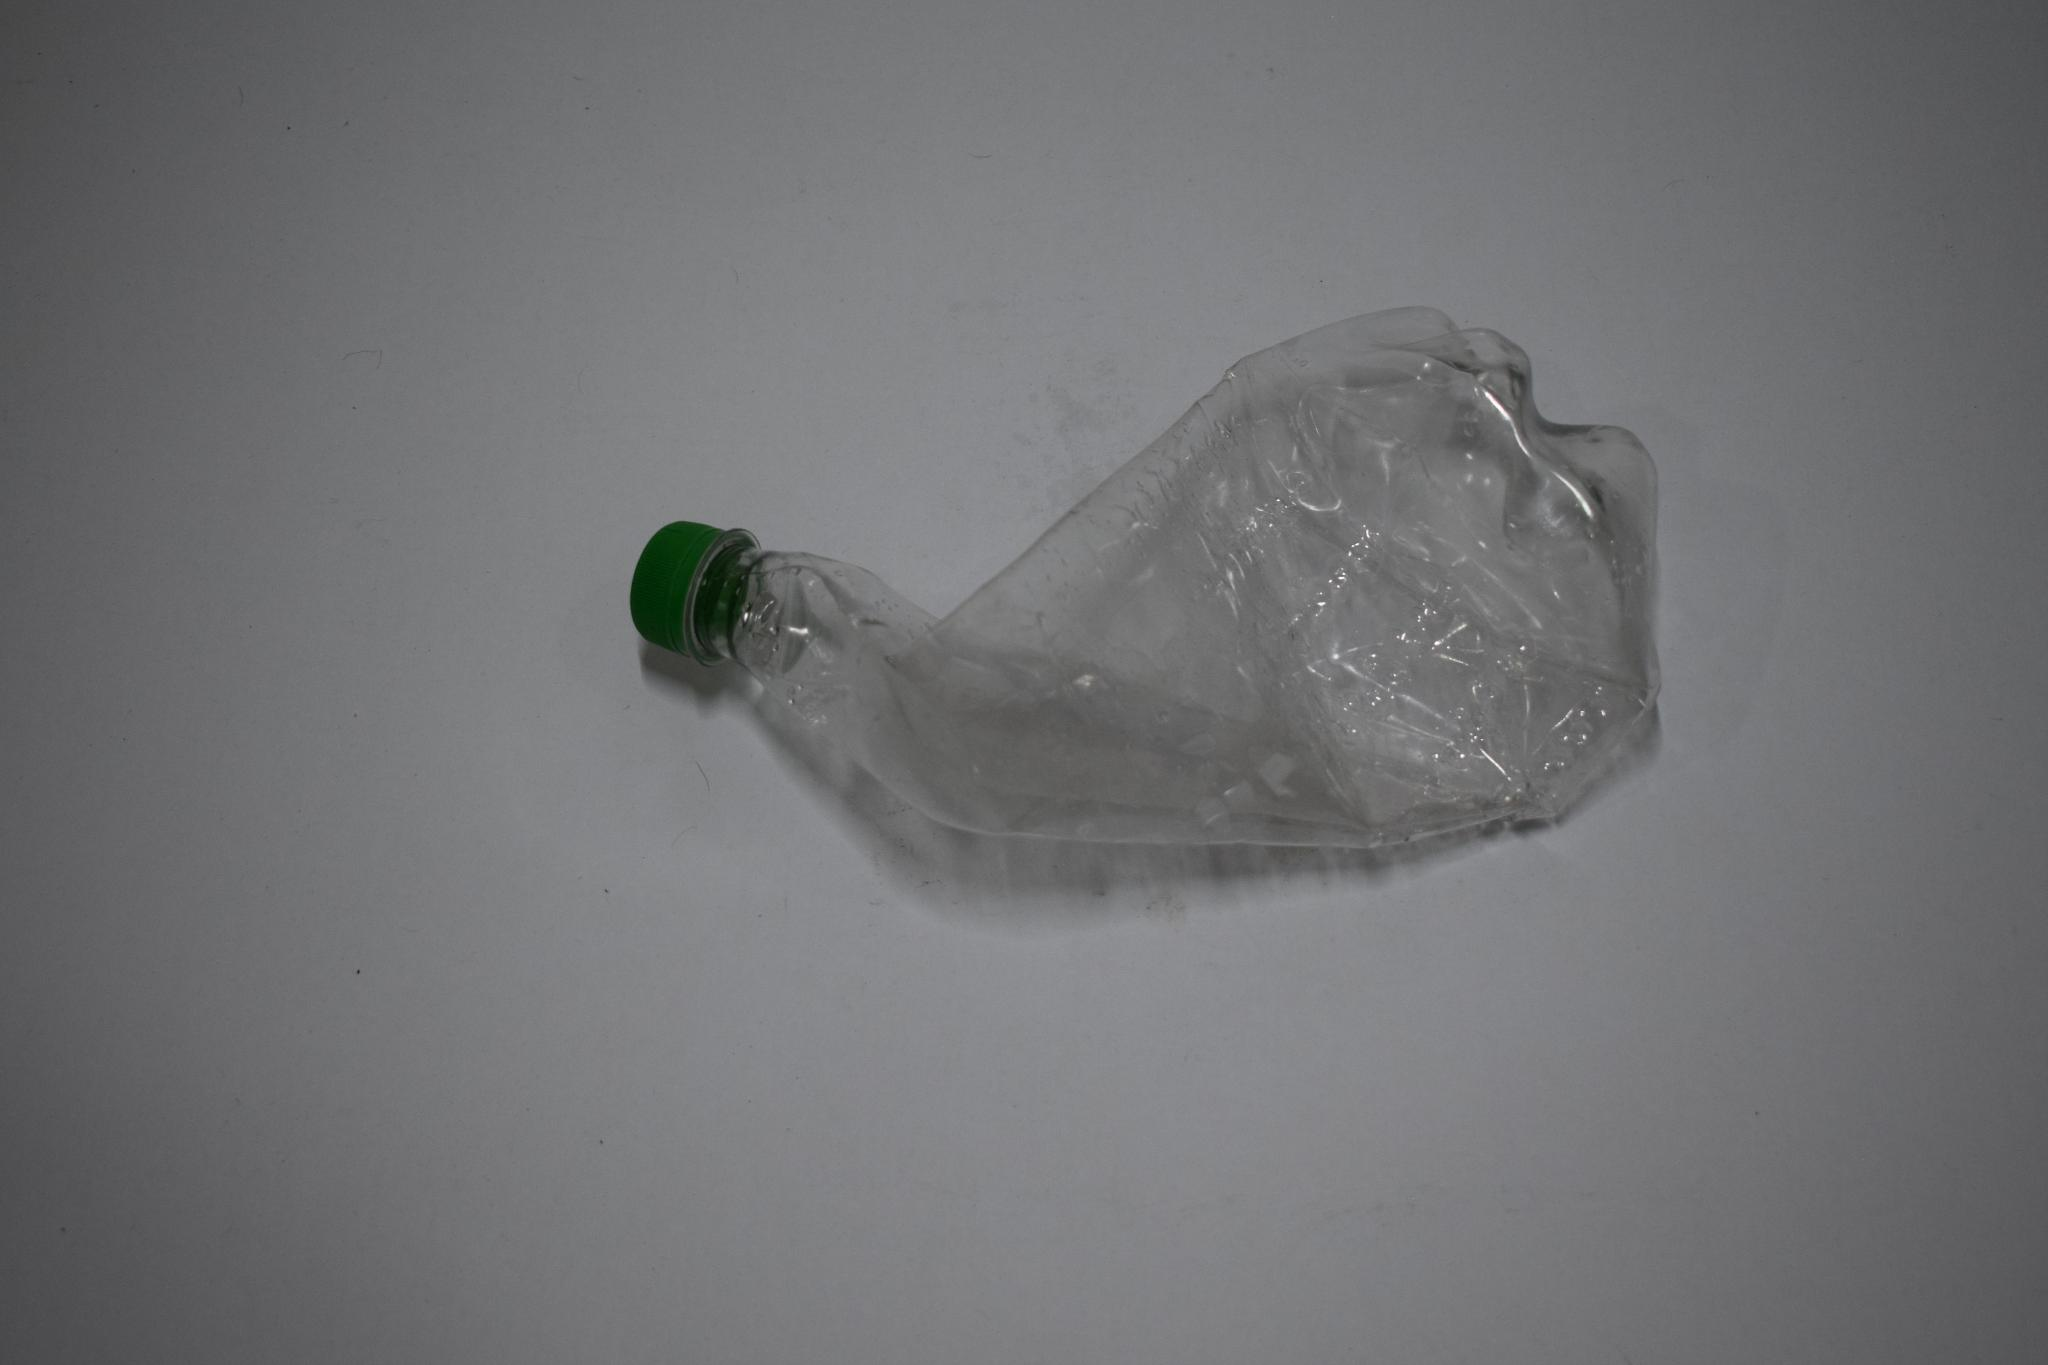bottle: (573, 289, 1724, 903)
